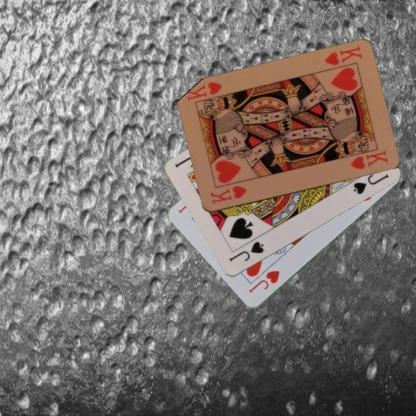Jh: (246, 268, 282, 295)
Js: (226, 239, 265, 263)
Kh: (322, 44, 364, 67), (208, 183, 249, 206)
